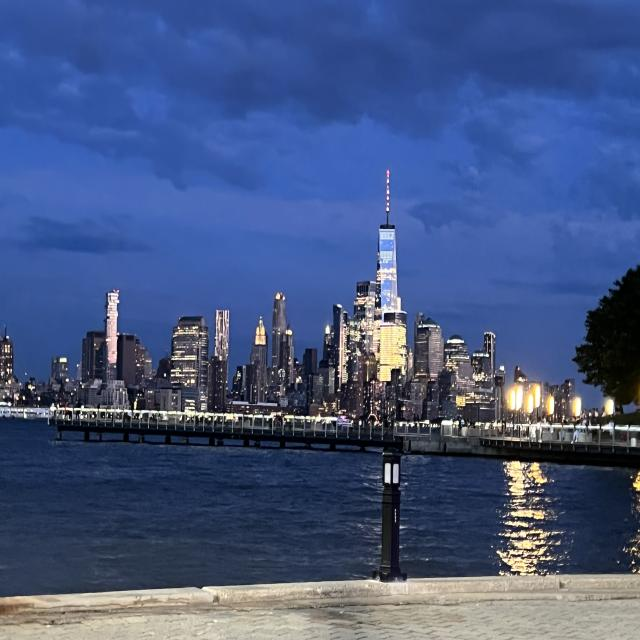WTC: (377, 169, 397, 315)
